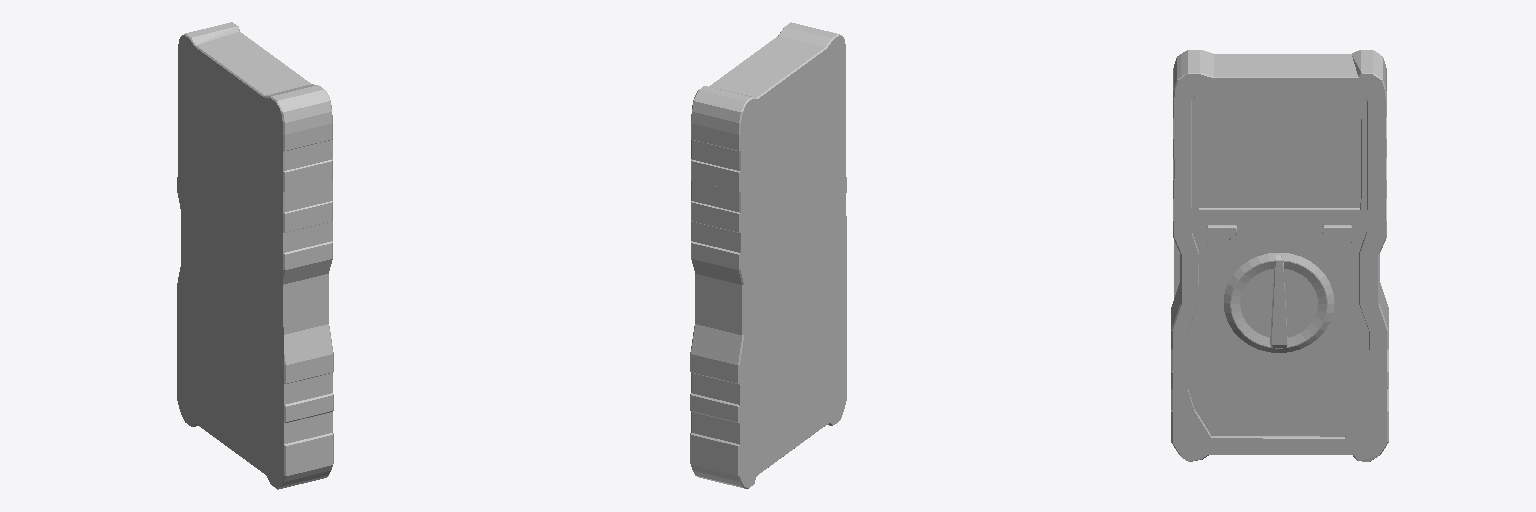
Rendered from uploads_files_4233865_MultiMeter+.obj.
The picture shows the model from 3 angles: view 1: azimuth 30°, elevation 25°; view 2: azimuth 150°, elevation 25°; view 3: azimuth 270°, elevation 25°; orthographic projection.
Parts seen in each view (by area): view 1: Multimeter_Cube.001_Cube.002; view 2: Multimeter_Cube.001_Cube.002; view 3: Multimeter_Cube.001_Cube.002, Multimeter_Cube.001_Cube.004.
Part boxes in pixels (x1,y1,x2,y2): Multimeter_Cube.001_Cube.002: (177, 22, 333, 489); Multimeter_Cube.001_Cube.002: (690, 22, 846, 488); Multimeter_Cube.001_Cube.002: (1171, 50, 1388, 461); Multimeter_Cube.001_Cube.004: (1224, 253, 1334, 352).
Bounding box in the file's own units: 0.0162 × 0.1179 × 0.0598.